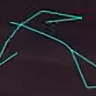hacks_2: (1, 10, 96, 89)
